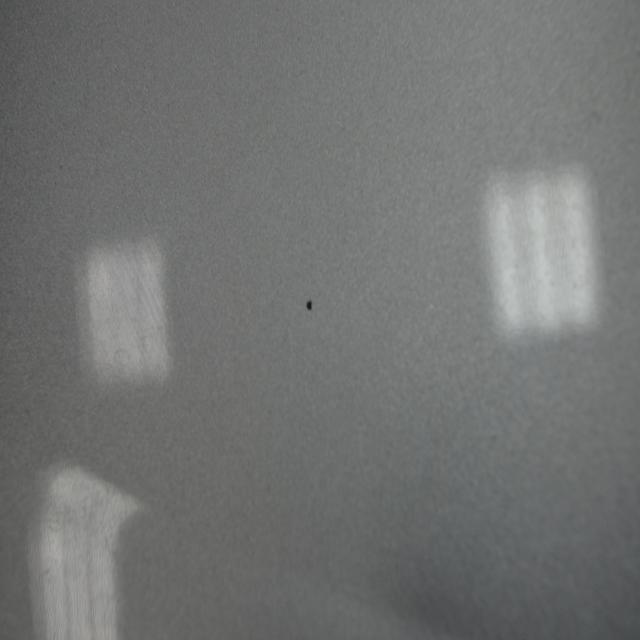dirt: (304, 294, 314, 314)
